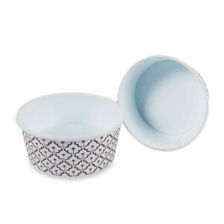paper_cup: (109, 48, 214, 154), (11, 88, 126, 184)
